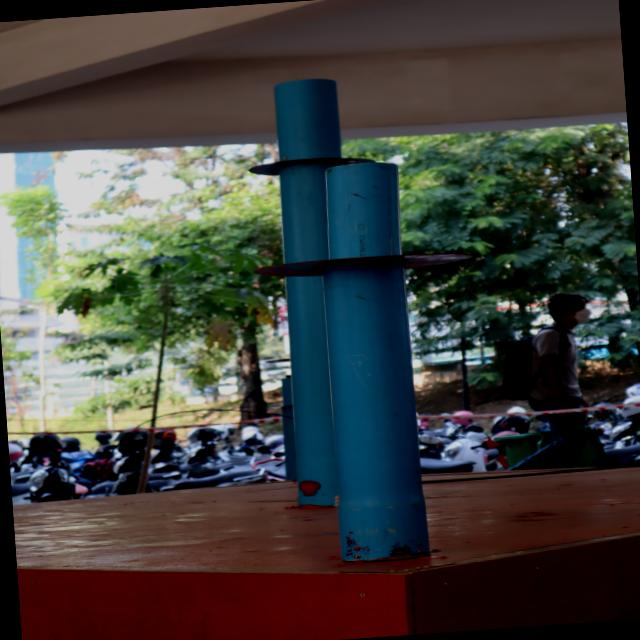pole: (241, 170, 456, 330), (228, 64, 408, 204)
